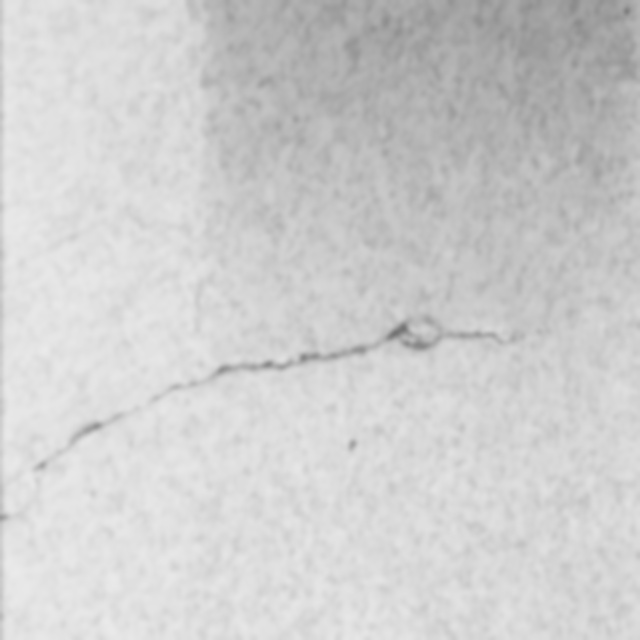SurfaceCrack: (2, 274, 640, 514)
